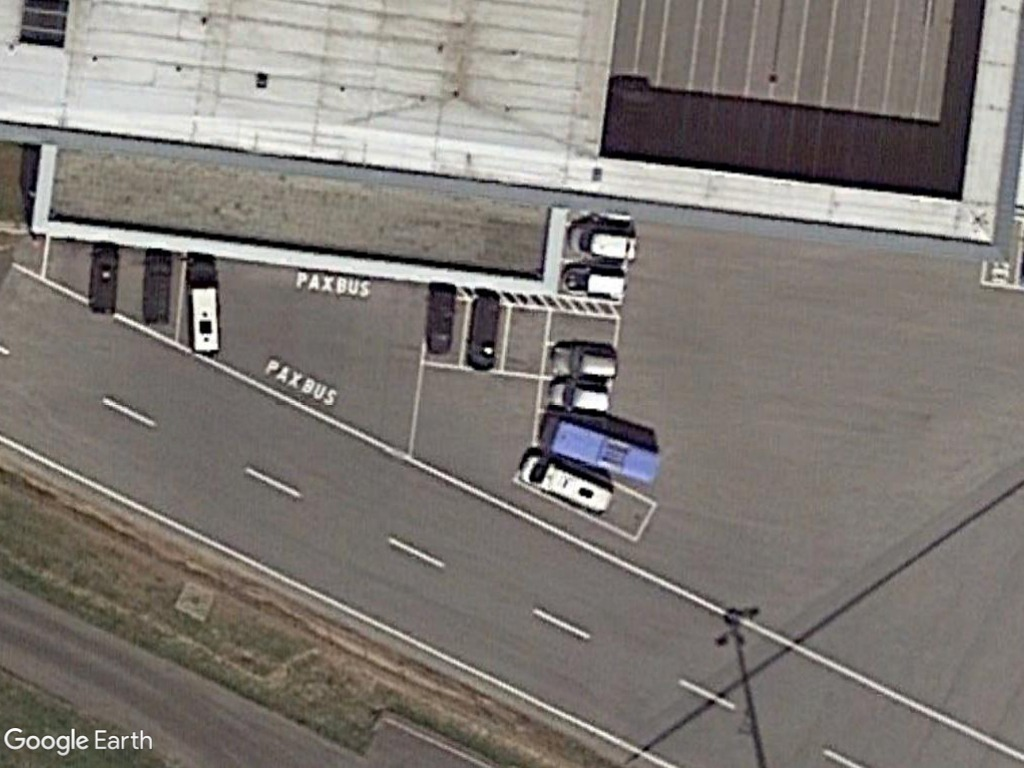bus: (545, 412, 664, 482)
car: (547, 340, 619, 382), (543, 378, 615, 417)
van: (515, 451, 618, 517), (185, 258, 227, 359), (567, 220, 641, 264)
